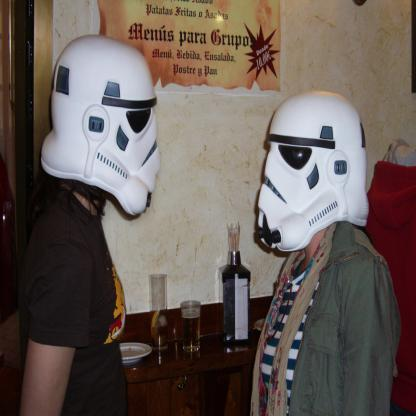Helmet: (41, 34, 161, 218), (251, 91, 376, 267)
